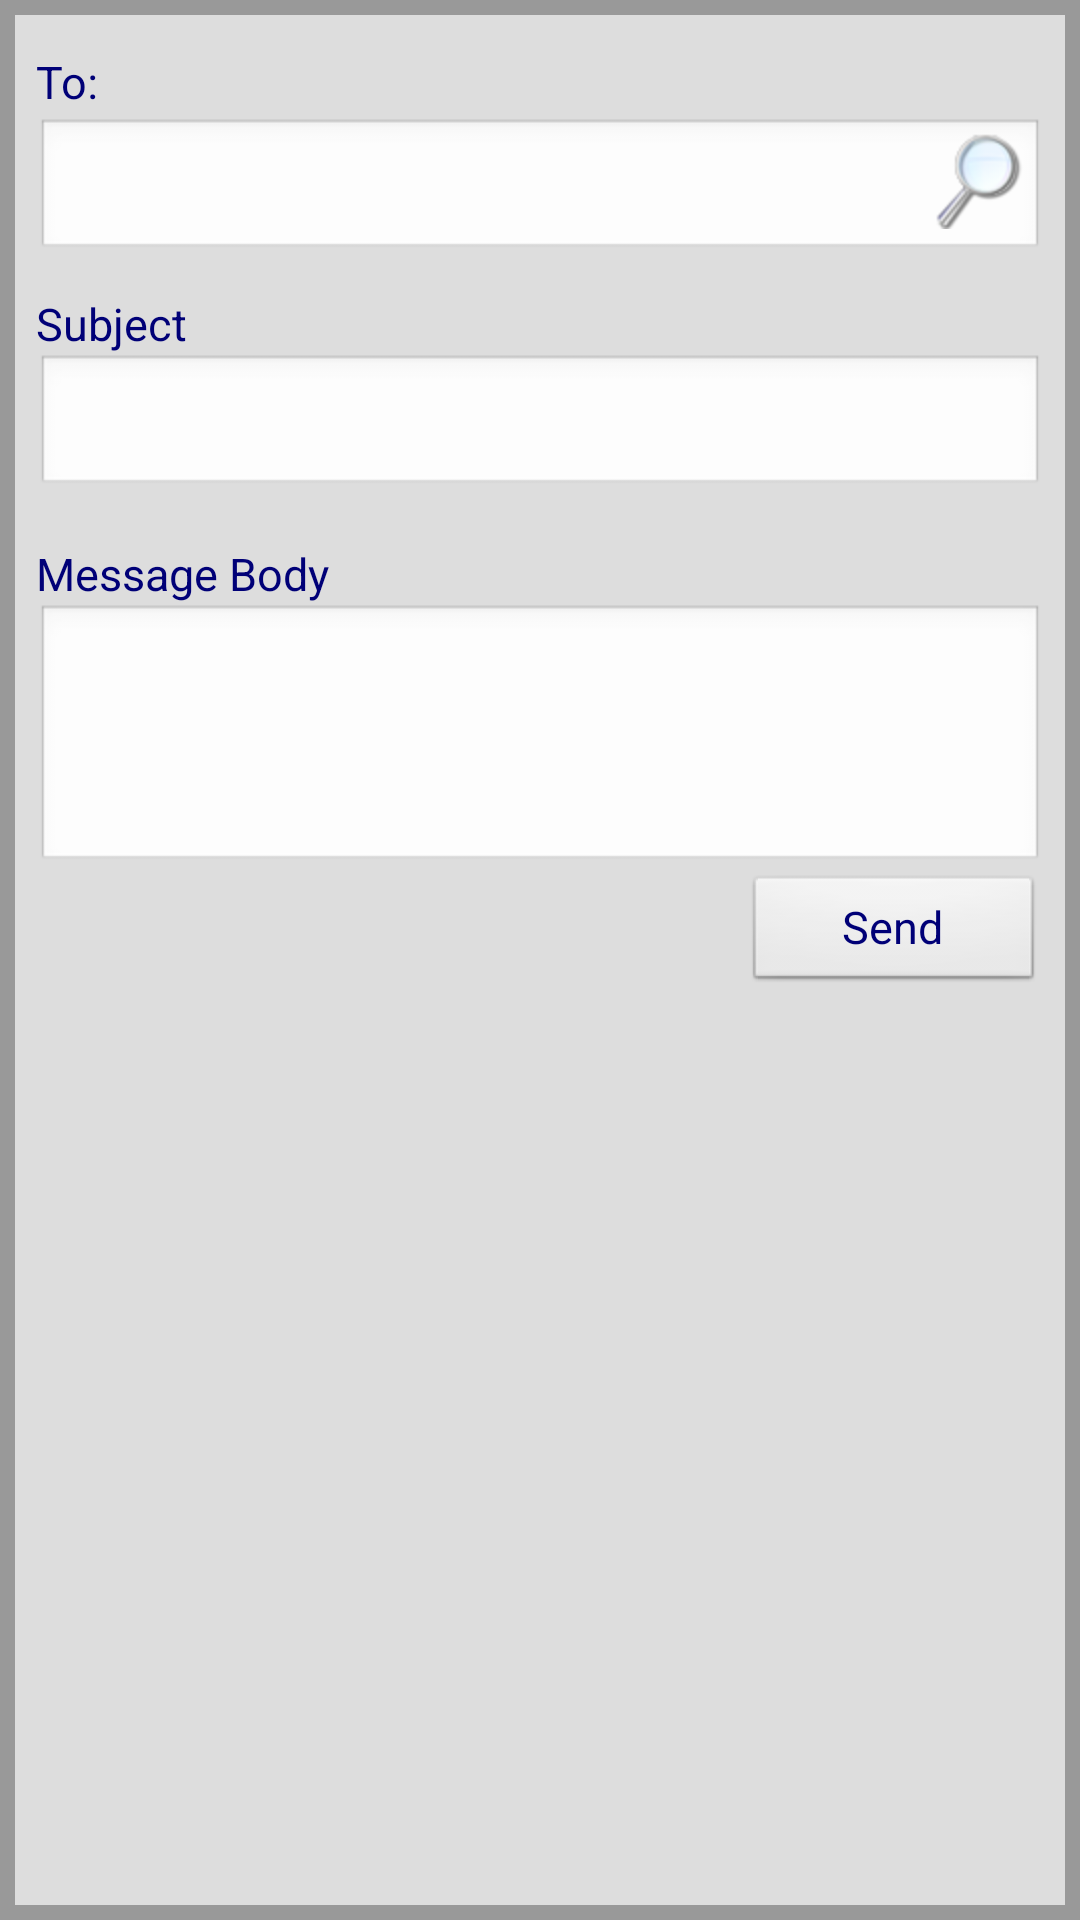

Named icons in this screenshot (1080 × 1920) and their centers, [x,y]:
search: [978,182]
